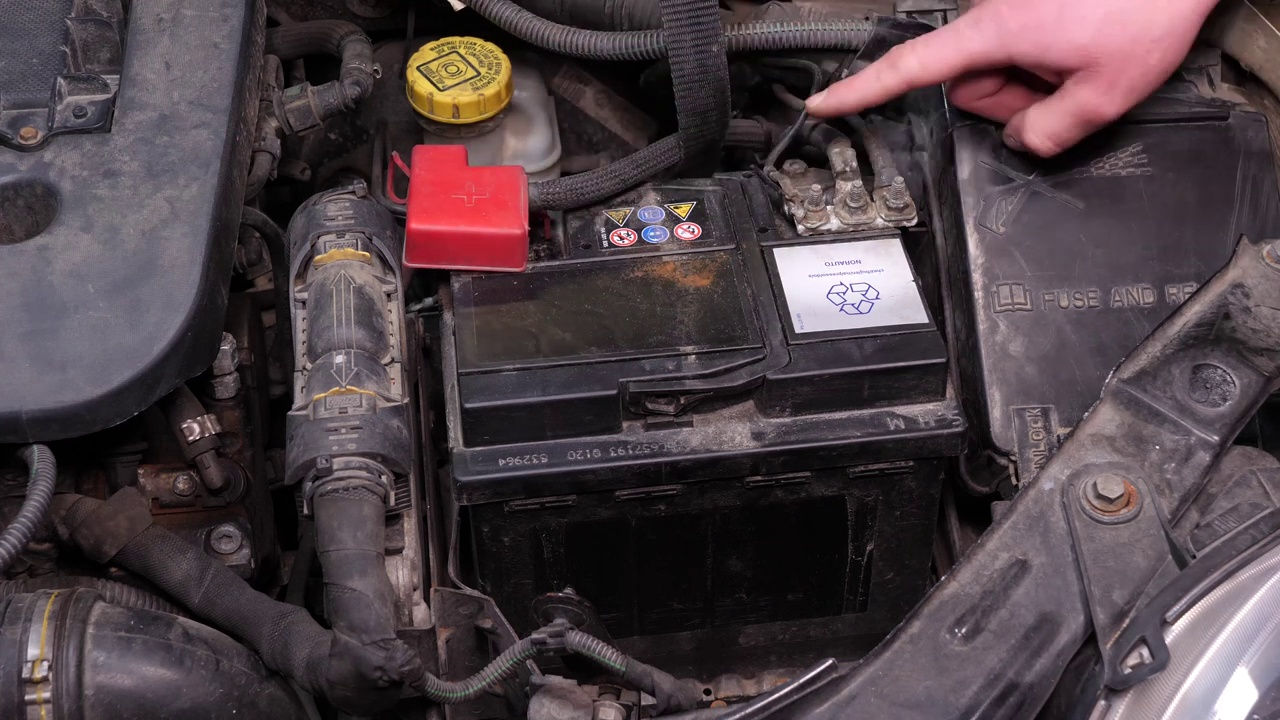battery: (404, 133, 949, 435)
neg_connected: (754, 143, 921, 237)
pos_connected: (394, 142, 542, 269)
